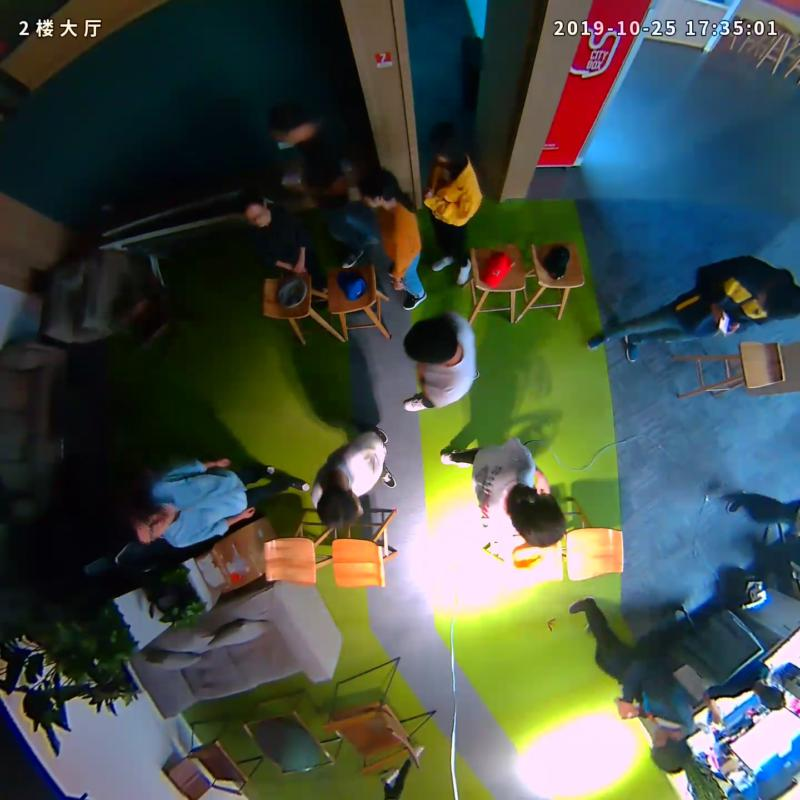head: (511, 487, 566, 549), (405, 316, 458, 363), (267, 97, 317, 146), (124, 503, 176, 544), (650, 726, 694, 773), (316, 487, 365, 528), (756, 278, 800, 320), (358, 166, 395, 211), (431, 124, 467, 168), (238, 190, 274, 229)
